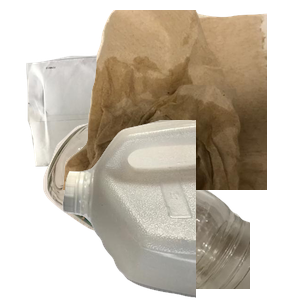glass: (41, 120, 281, 300)
paper: (24, 43, 242, 202)
plastic: (60, 120, 300, 300)
trash: (60, 10, 300, 190)
